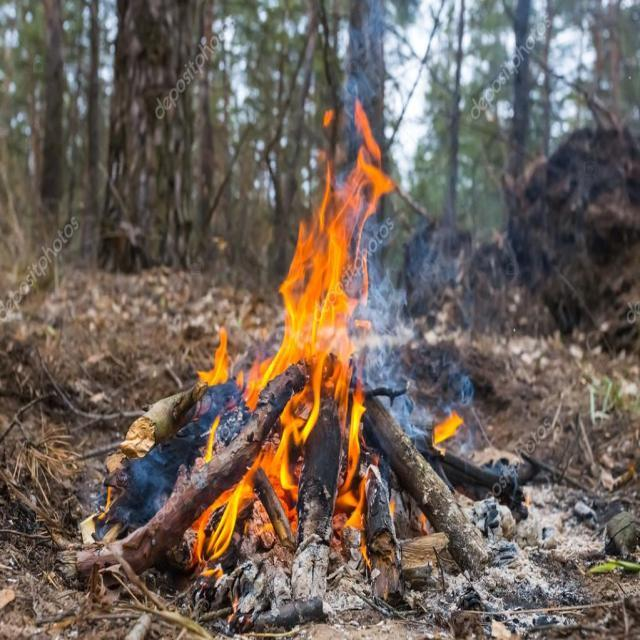Fire: (184, 61, 456, 576)
